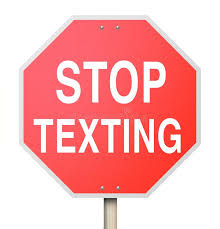stop sign: (20, 13, 203, 198)
